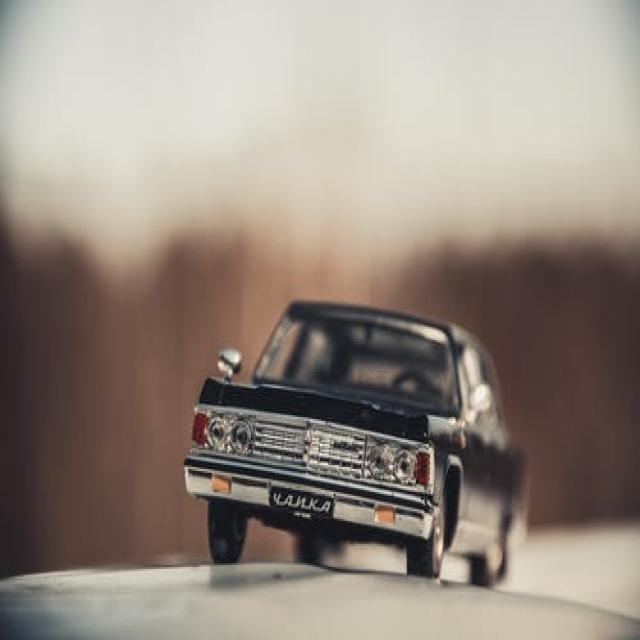Car: (183, 296, 531, 586)
